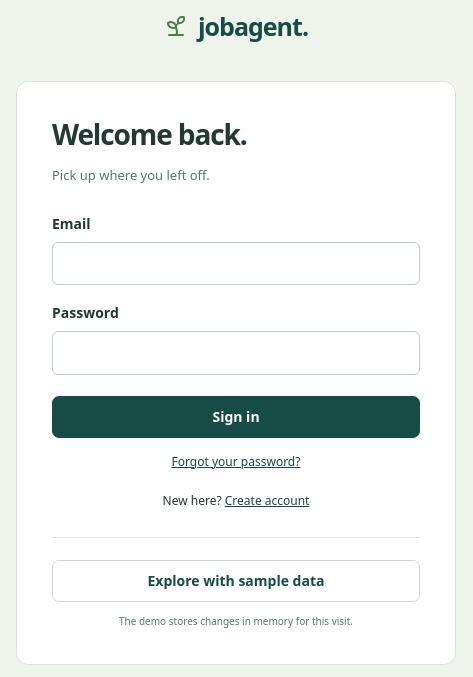
Scenario: accessible screens › validates sign-in email without sending a request
Type "invalid" into the field labelled "Email".
click(236, 264); type("invalid")  # box top-left (52, 242), bottom-right (420, 285)
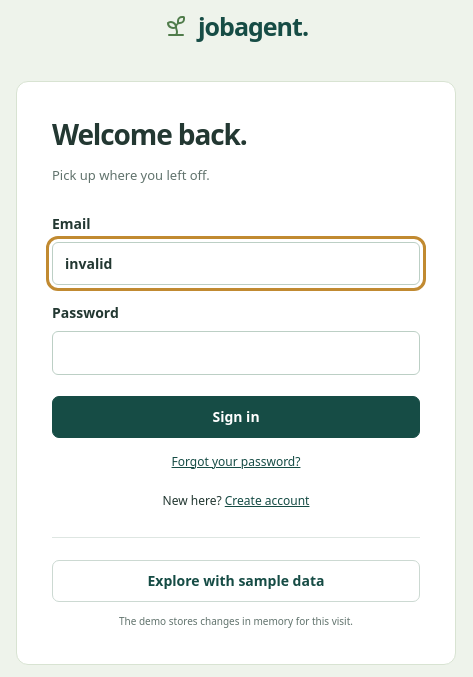
Click the button "Sign in".
click(236, 417)  # box top-left (52, 396), bottom-right (420, 438)
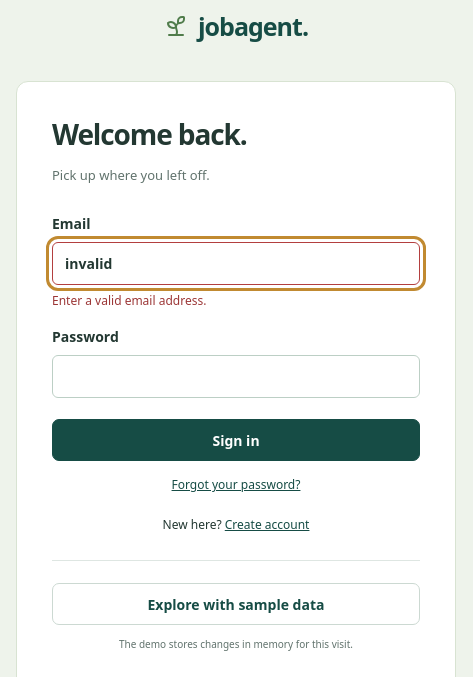
Check: the text "Enter a valid email address." is shown, box top-left (52, 292), bottom-right (206, 309)
